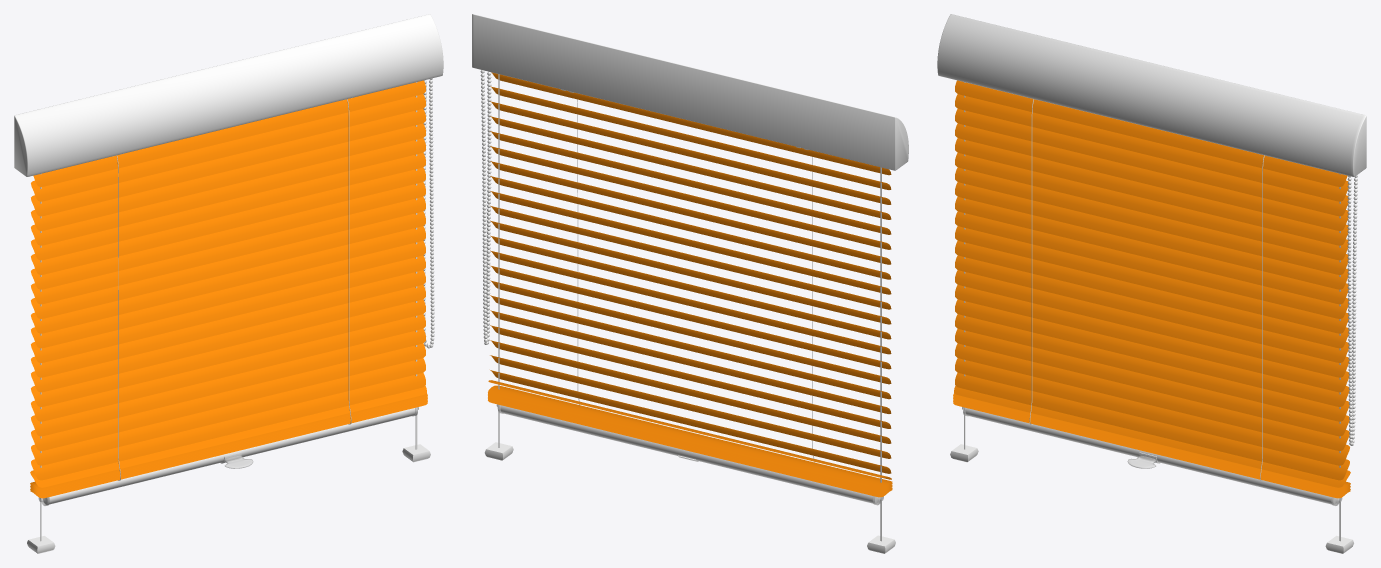
The model's file is 8500 Glasleistenjalousie Style.glb.
3 views of the same model, side by side, from view 1: azimuth 30°, elevation 25°; view 2: azimuth 150°, elevation 25°; view 3: azimuth 330°, elevation 25° (orthographic).
Parts seen in each view (by area): view 1: Cylinder.015, jalousie.001, jalousie.035, jalousie.044, jalousie.038, jalousie.039, jalousie.042, jalousie.043, jalousie.046, jalousie.048, jalousie.032, jalousie.033 (+20 smaller); view 2: Cylinder.015, jalousie.054, balken unten.001, jalousie.048, jalousie.034, jalousie.038, jalousie.035, jalousie.039, jalousie.031, jalousie.033, jalousie.042, jalousie.030 (+19 smaller); view 3: Cylinder.015, jalousie.047, jalousie.045, jalousie.048, jalousie.041, jalousie.042, jalousie.046, jalousie.044, jalousie.039, jalousie.040, jalousie.038, jalousie.043 (+20 smaller).
Part boxes in pixels (x1,y1,x2,y2): Cylinder.015: [14, 14, 443, 176]; jalousie.001: [31, 94, 425, 201]; jalousie.035: [31, 182, 425, 289]; jalousie.044: [31, 314, 425, 421]; jalousie.038: [31, 226, 425, 333]; jalousie.039: [31, 240, 425, 348]; jalousie.042: [31, 285, 425, 392]; jalousie.043: [31, 299, 425, 406]; jalousie.046: [31, 343, 425, 450]; jalousie.048: [31, 373, 425, 480]; jalousie.032: [31, 138, 425, 245]; jalousie.033: [31, 152, 425, 260]; Cylinder.015: [472, 14, 908, 170]; jalousie.054: [488, 385, 892, 489]; balken unten.001: [500, 405, 879, 503]; jalousie.048: [490, 370, 891, 473]; jalousie.034: [490, 161, 891, 264]; jalousie.038: [490, 220, 891, 324]; jalousie.035: [490, 176, 891, 279]; jalousie.039: [490, 235, 891, 339]; jalousie.031: [490, 116, 891, 219]; jalousie.033: [490, 146, 891, 249]; jalousie.042: [490, 280, 891, 384]; jalousie.030: [490, 101, 891, 204]; Cylinder.015: [937, 14, 1366, 176]; jalousie.047: [955, 358, 1349, 465]; jalousie.045: [955, 329, 1349, 436]; jalousie.048: [955, 373, 1349, 480]; jalousie.041: [955, 270, 1349, 377]; jalousie.042: [955, 284, 1349, 392]; jalousie.046: [955, 343, 1349, 450]; jalousie.044: [955, 314, 1349, 421]; jalousie.039: [955, 240, 1348, 348]; jalousie.040: [955, 255, 1349, 362]; jalousie.038: [955, 226, 1348, 333]; jalousie.043: [955, 299, 1349, 406].
Size of the model in its own units: 1.34 by 1.33 by 0.1234.
Materials: 3 (1 with a texture image).
